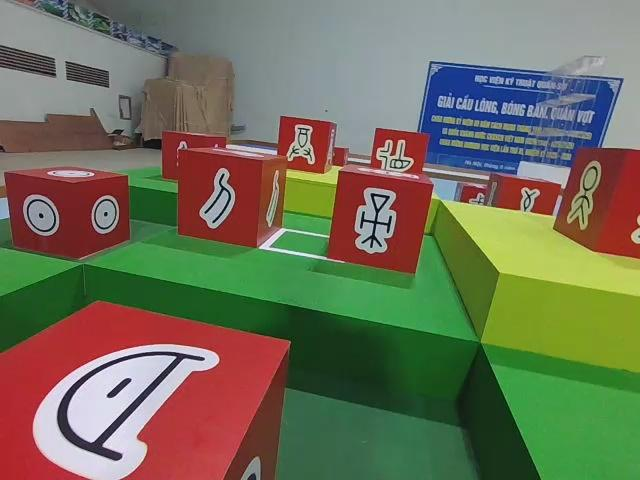R2 Real: (0, 299, 292, 480), (327, 166, 434, 275), (3, 166, 128, 258), (177, 148, 287, 247), (553, 148, 640, 257), (277, 115, 337, 174), (371, 127, 430, 183)
